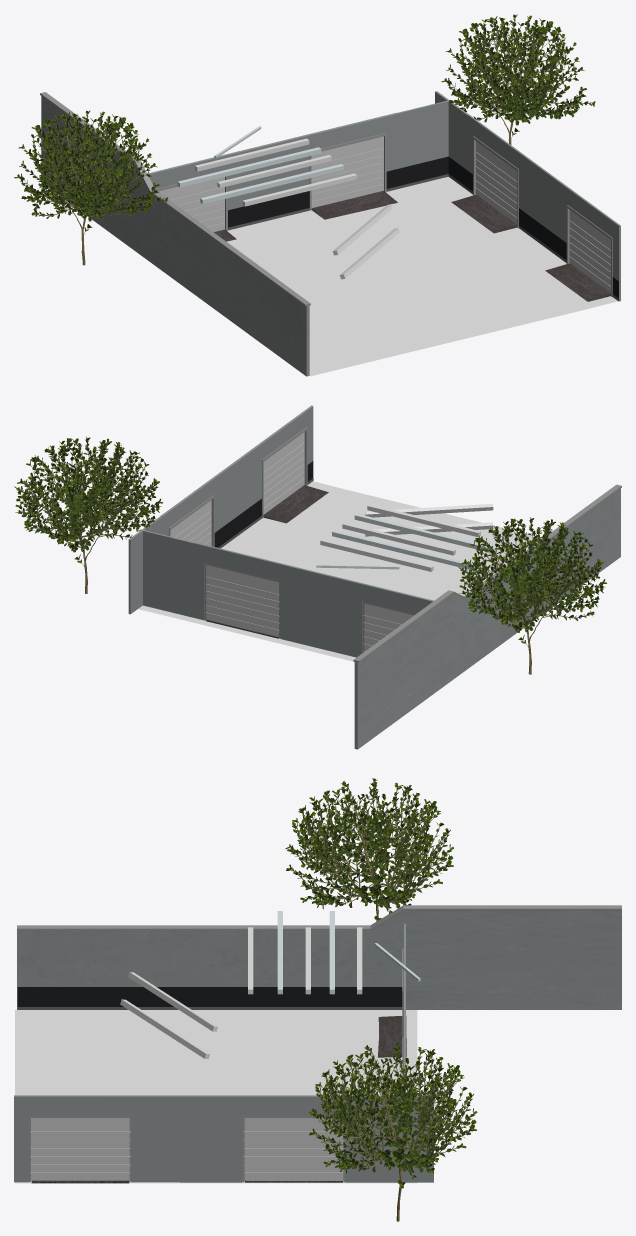
3 renders of one model, top to bottom at view 1: azimuth 30°, elevation 25°; view 2: azimuth 150°, elevation 25°; view 3: azimuth 270°, elevation 25°, orthographic. The views are drawn at different scales.
Visible parts, largest first — view 1: Plane.007, Plane.008, tree1, tree32, Plane.002, Plane.011, Plane.001, Plane.010, Plane.005, Plane.014, light2, light1 (+5 smaller); view 2: Plane.008, Plane.007, Plane.002, tree1, tree32, Plane.011, Plane.001, Plane.010, light2, light1, Plane.015, light3 (+4 smaller); view 3: Plane.008, Plane.007, Plane.011, tree32, tree1, Plane.010, Plane.005, Plane.015, Plane.014, light3, light1, light2 (+2 smaller).
Part boxes in pixels (x1,y1,x2,y2): Plane.007: [227, 176, 621, 376]; Plane.008: [41, 96, 309, 376]; tree1: [14, 110, 167, 265]; tree32: [441, 14, 595, 144]; Plane.002: [148, 100, 449, 210]; Plane.011: [435, 91, 620, 301]; Plane.001: [158, 136, 383, 232]; Plane.010: [476, 141, 610, 292]; Plane.005: [228, 156, 618, 298]; Plane.014: [214, 190, 610, 301]; light2: [195, 138, 356, 206]; light1: [177, 126, 343, 204]; Plane.008: [354, 488, 620, 749]; Plane.007: [138, 481, 542, 661]; Plane.002: [139, 529, 433, 657]; tree1: [458, 517, 606, 674]; tree32: [14, 436, 162, 593]; Plane.011: [128, 405, 313, 614]; Plane.001: [205, 565, 413, 651]; Plane.010: [170, 432, 304, 546]; light2: [320, 504, 480, 571]; light1: [316, 513, 496, 569]; Plane.015: [353, 484, 621, 662]; light3: [365, 503, 493, 536]; Plane.008: [17, 910, 621, 1009]; Plane.007: [15, 1010, 417, 1183]; Plane.011: [14, 1095, 433, 1182]; tree32: [308, 1042, 477, 1221]; tree1: [285, 778, 453, 921]; Plane.010: [30, 1118, 344, 1180]; Plane.005: [17, 987, 402, 1006]; Plane.015: [17, 905, 621, 930]; Plane.014: [31, 1016, 406, 1183]; light3: [120, 972, 217, 1058]; light1: [277, 911, 420, 994]; light2: [248, 927, 362, 994].
Bounding box in the file's own units: 3242 × 914 × 2638.
13 materials, 3 textured.
